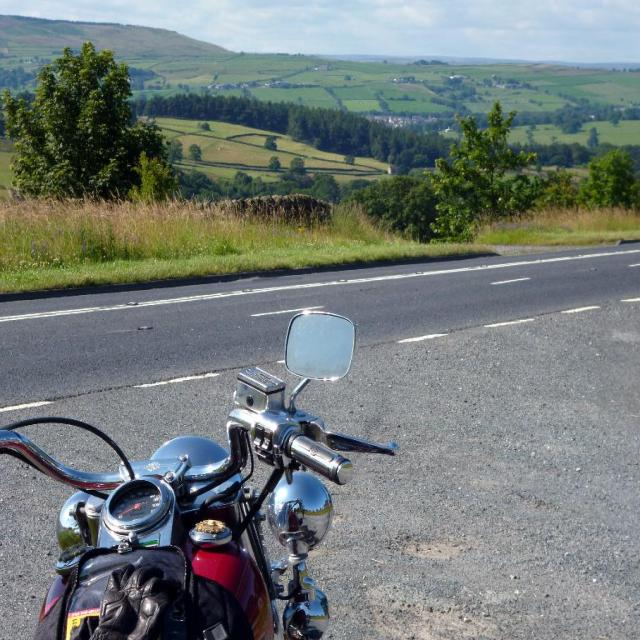Motorbikes: (3, 308, 376, 640)
